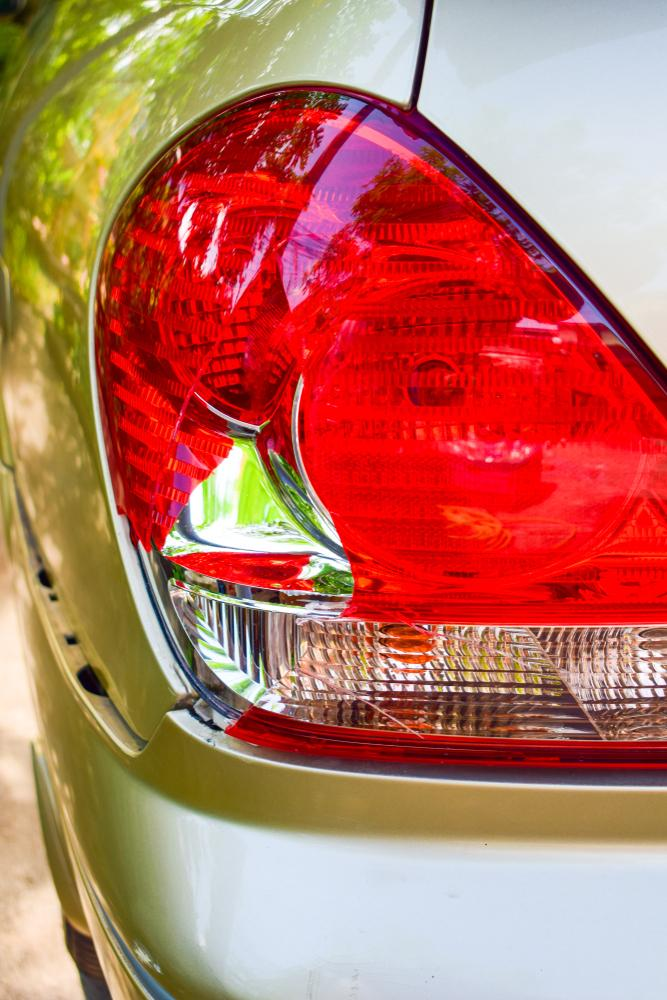lamp broken: (88, 85, 667, 771)
